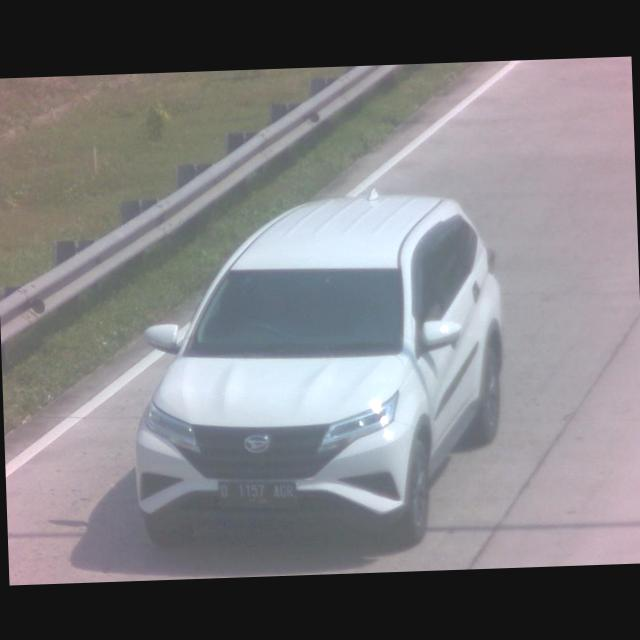plate: (213, 473, 299, 512)
